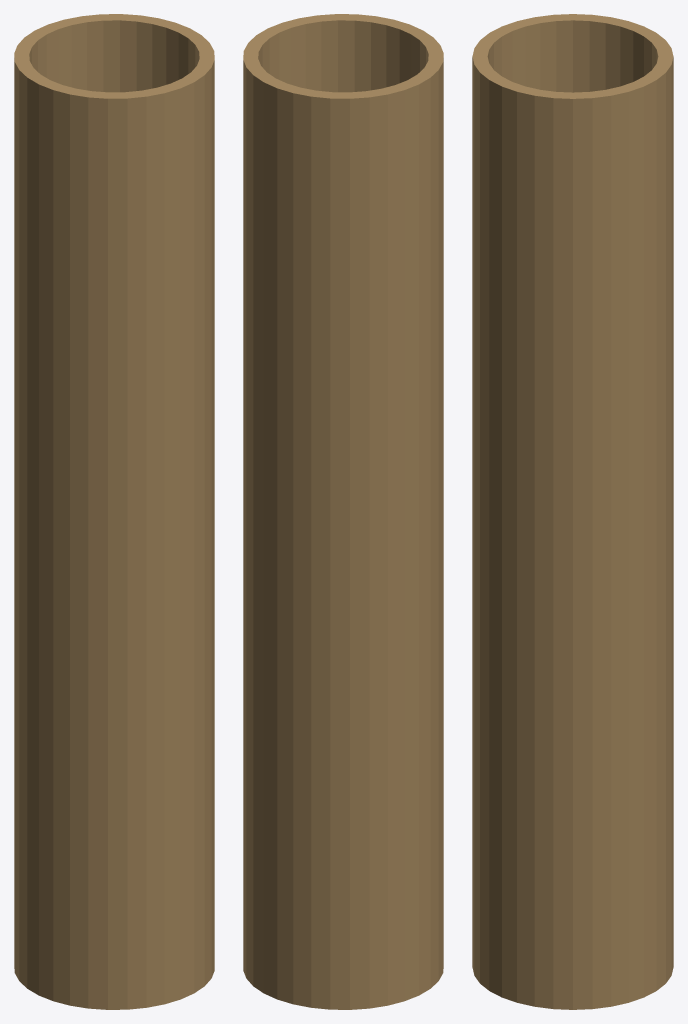
Rendered from CakeTube.fbx.
The picture shows the model from 3 angles, left to right: view 1: azimuth 30°, elevation 25°; view 2: azimuth 150°, elevation 25°; view 3: azimuth 270°, elevation 25°; orthographic projection.
Visible parts, largest first — view 1: Cylinder; view 2: Cylinder; view 3: Cylinder.
Part boxes in pixels (bbox=[...]): Cylinder: bbox=[14, 14, 214, 1009]; Cylinder: bbox=[243, 14, 443, 1009]; Cylinder: bbox=[472, 14, 673, 1009].
Size of the model in its own units: 4 by 20 by 4.
